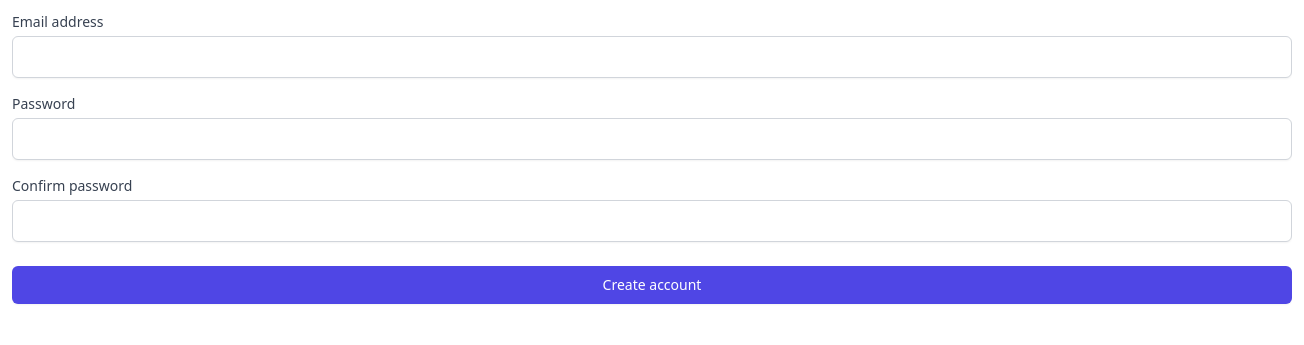
Test case: RegisterForm › validation › shows confirmPassword error when passwords do not match
In the field labelled "Email address": (652,57) [12,36,1292,78], type "test@example.com"
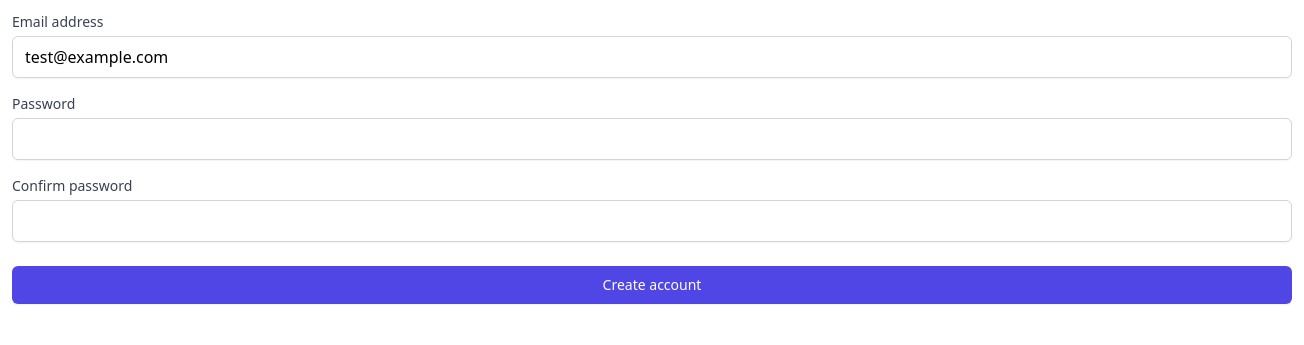
In the password field labelled "Password": (652,139) [12,118,1292,160], type "password123"
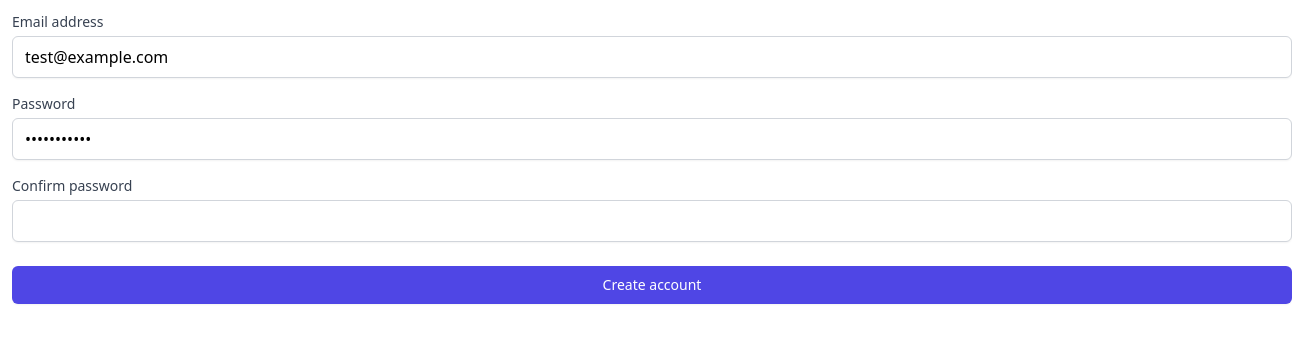
In the password field labelled "Confirm password": (652,221) [12,200,1292,242], type "differentpass"
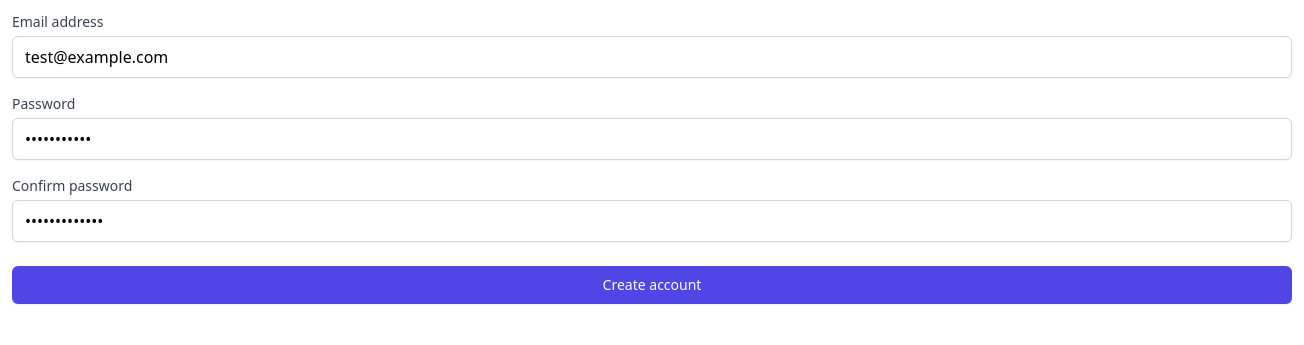
Click the button "Create account": (652,285) [12,266,1292,304]
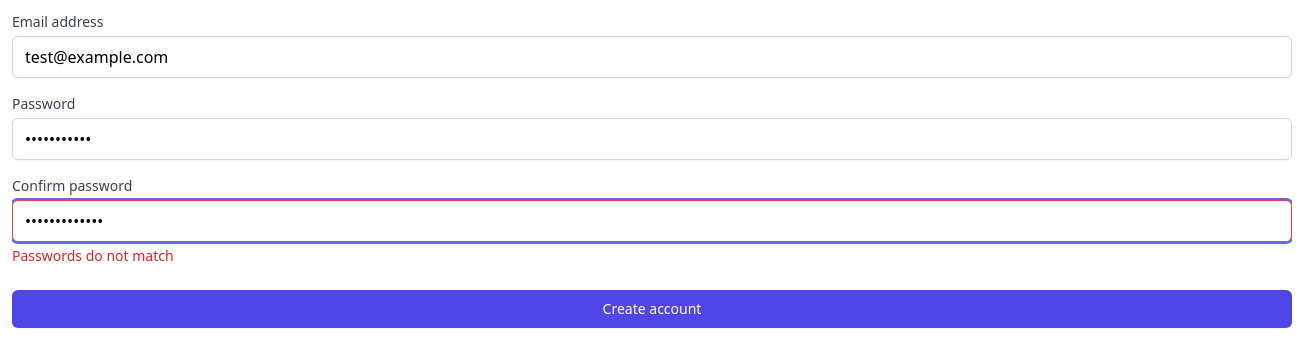
Expected: the text "Passwords do not match" is shown, [12,246,174,265]
